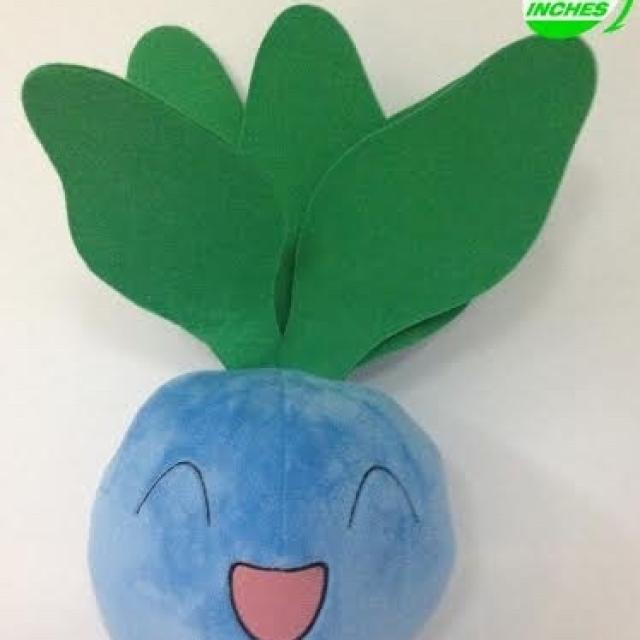Oddish: (90, 9, 463, 640)
